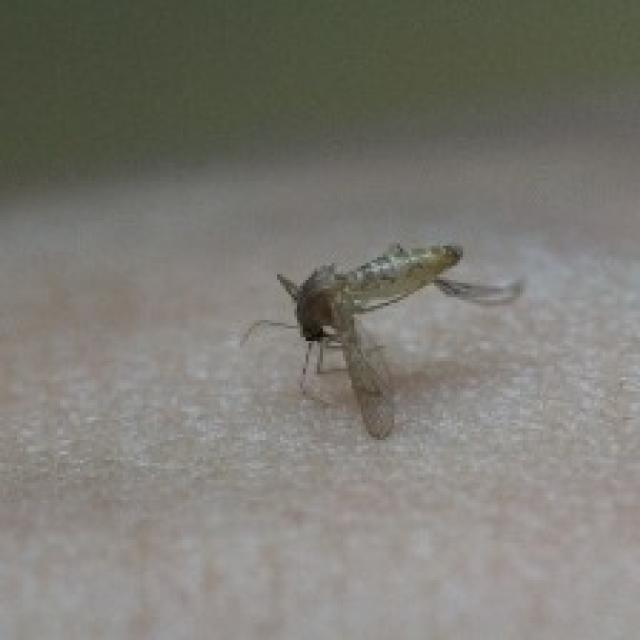culex: (237, 237, 526, 440)
